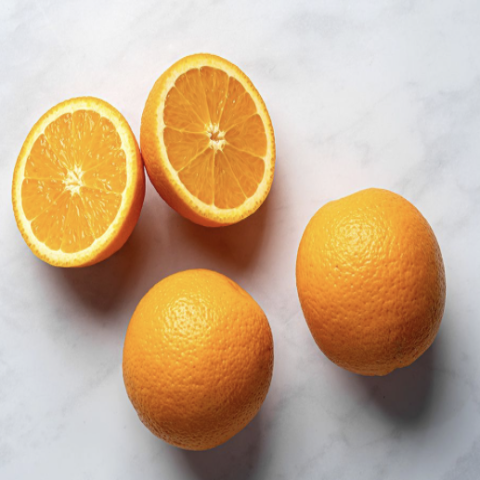orange: (281, 184, 453, 380), (109, 264, 285, 448)
